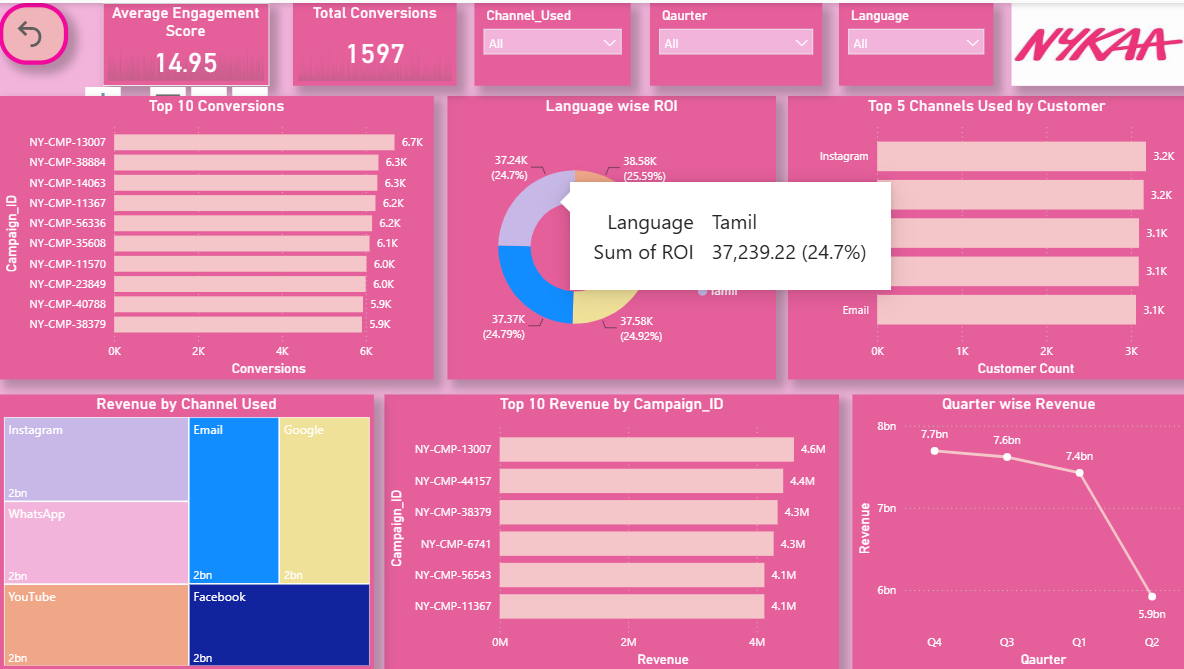

What the dashboard file says about the page in this screenshot:
{"tool":"powerbi","page":{"name":"Page 3","canvas":[1280,720],"ordinal":2},"visuals":[{"type":"donutChart","title":"Language wise ROI","fields":{"Category":["nykaa_campaign_data.Language"],"Y":["Sum(nykaa_campaign_data.ROI)"]},"box":[484.1,100.4,354.6,306],"z":0},{"type":"kpi","title":"Average Engagement Score","fields":{"Indicator":["nykaa_campaign_data.Average Engagement Score"],"TrendLine":["nykaa_campaign_data.Campaign_ID"]},"box":[111.7,0,179.7,89.1],"z":1000},{"type":"kpi","title":"Total Conversions","fields":{"Indicator":["nykaa_campaign_data.Total Conversions"],"TrendLine":["nykaa_campaign_data.Campaign_ID"]},"box":[317.4,0,176.5,89.1],"z":2000},{"type":"slicer","fields":{"Values":["nykaa_campaign_data.Language"]},"box":[906.8,0,166.8,89.1],"z":3000},{"type":"clusteredBarChart","title":"Top 10 Revenue by Campaign_ID","fields":{"Category":["nykaa_campaign_data.Campaign_ID"],"Y":["Sum(nykaa_campaign_data.Revenue)"]},"box":[416.1,422.6,490.6,297.9],"z":4000},{"type":"clusteredBarChart","title":"Top 10 Conversions ","fields":{"Category":["nykaa_campaign_data.Campaign_ID"],"Y":["Sum(nykaa_campaign_data.Conversions)"]},"box":[0,100.4,469.6,306],"z":5000},{"type":"clusteredBarChart","title":"Top 5 Channels Used by Customer","fields":{"Category":["nykaa_campaign_data.Channel_Used"],"Y":["CountNonNull(nykaa_campaign_data.Campaign_ID)"]},"box":[851.7,100.4,429.1,306],"z":6000},{"type":"treemap","title":"Revenue by Channel Used","fields":{"Group":["nykaa_campaign_data.Channel_Used"],"Values":["Sum(nykaa_campaign_data.Revenue)"]},"box":[0,422.6,404.8,297.9],"z":7000},{"type":"lineChart","title":"Quarter wise Revenue","fields":{"Category":["nykaa_campaign_data.Qaurter"],"Y":["Sum(nykaa_campaign_data.Revenue)"]},"box":[921.3,422.6,359.5,297.9],"z":8000},{"type":"image","box":[1093,0,187.8,89.1],"z":9000},{"type":"actionButton","box":[0,0,74.5,66.4],"z":10000},{"type":"slicer","fields":{"Values":["nykaa_campaign_data.Channel_Used"]},"box":[513.3,0,168.4,89.1],"z":11000},{"type":"slicer","fields":{"Values":["nykaa_campaign_data.Qaurter"]},"box":[702.7,0,186.2,89.1],"z":12000}]}

Visuals, with their boxes in screenshot pixels (x1, y1, x2, y2), scaled from the page's 1280x720 canvas onto the 1184x669 screenshot:
"Language wise ROI" donutChart: rect(448, 93, 776, 378)
"Average Engagement Score" kpi: rect(103, 0, 270, 83)
"Total Conversions" kpi: rect(294, 0, 457, 83)
slicer - nykaa_campaign_data.Language: rect(839, 0, 993, 83)
"Top 10 Revenue by Campaign_ID" clusteredBarChart: rect(385, 393, 839, 668)
"Top 10 Conversions " clusteredBarChart: rect(0, 93, 434, 378)
"Top 5 Channels Used by Customer" clusteredBarChart: rect(788, 93, 1183, 378)
"Revenue by Channel Used" treemap: rect(0, 393, 374, 668)
"Quarter wise Revenue" lineChart: rect(852, 393, 1183, 668)
image: rect(1011, 0, 1183, 83)
actionButton: rect(0, 0, 69, 62)
slicer - nykaa_campaign_data.Channel_Used: rect(475, 0, 631, 83)
slicer - nykaa_campaign_data.Qaurter: rect(650, 0, 822, 83)
